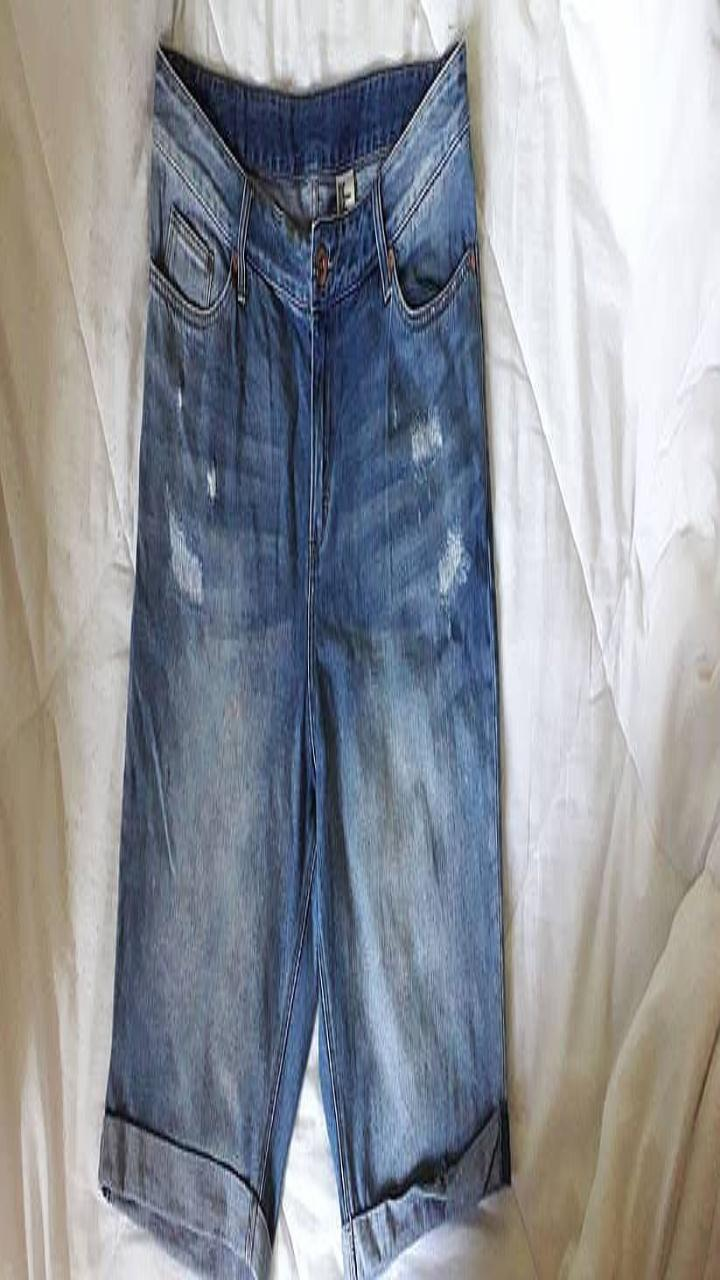Shorts: (99, 40, 509, 1279)
